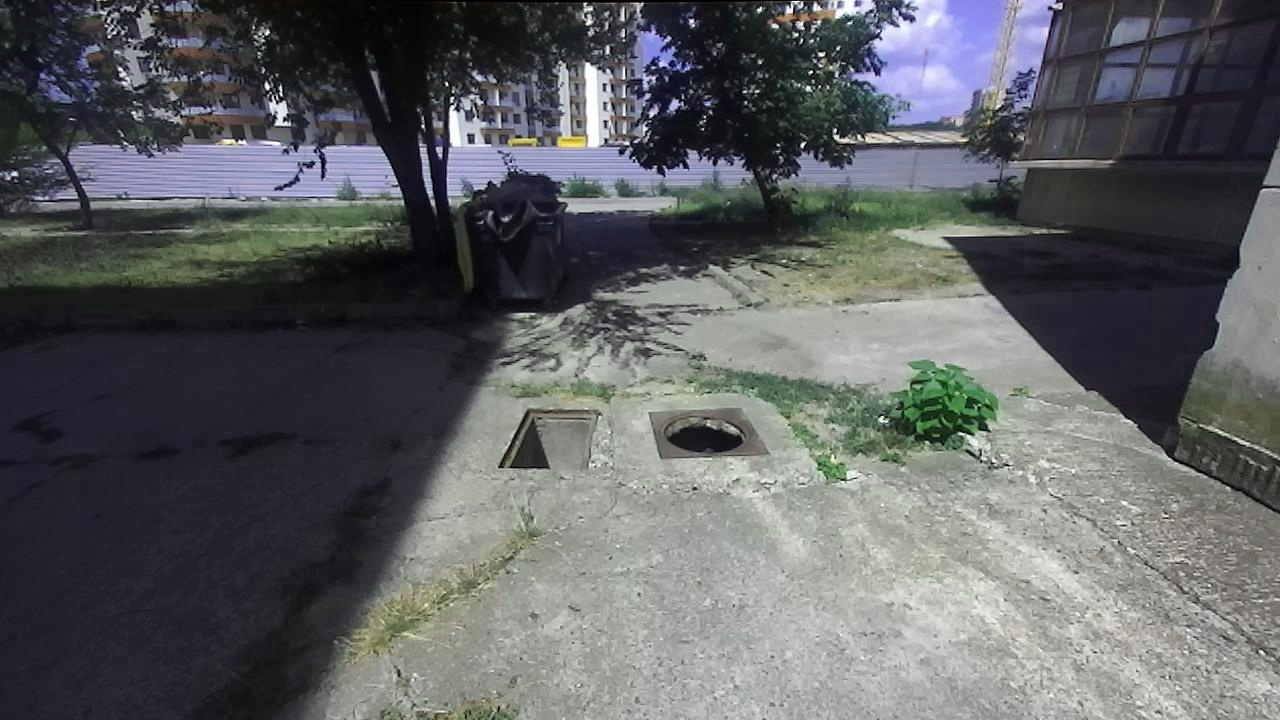drain: (496, 405, 604, 472), (658, 414, 750, 454)
